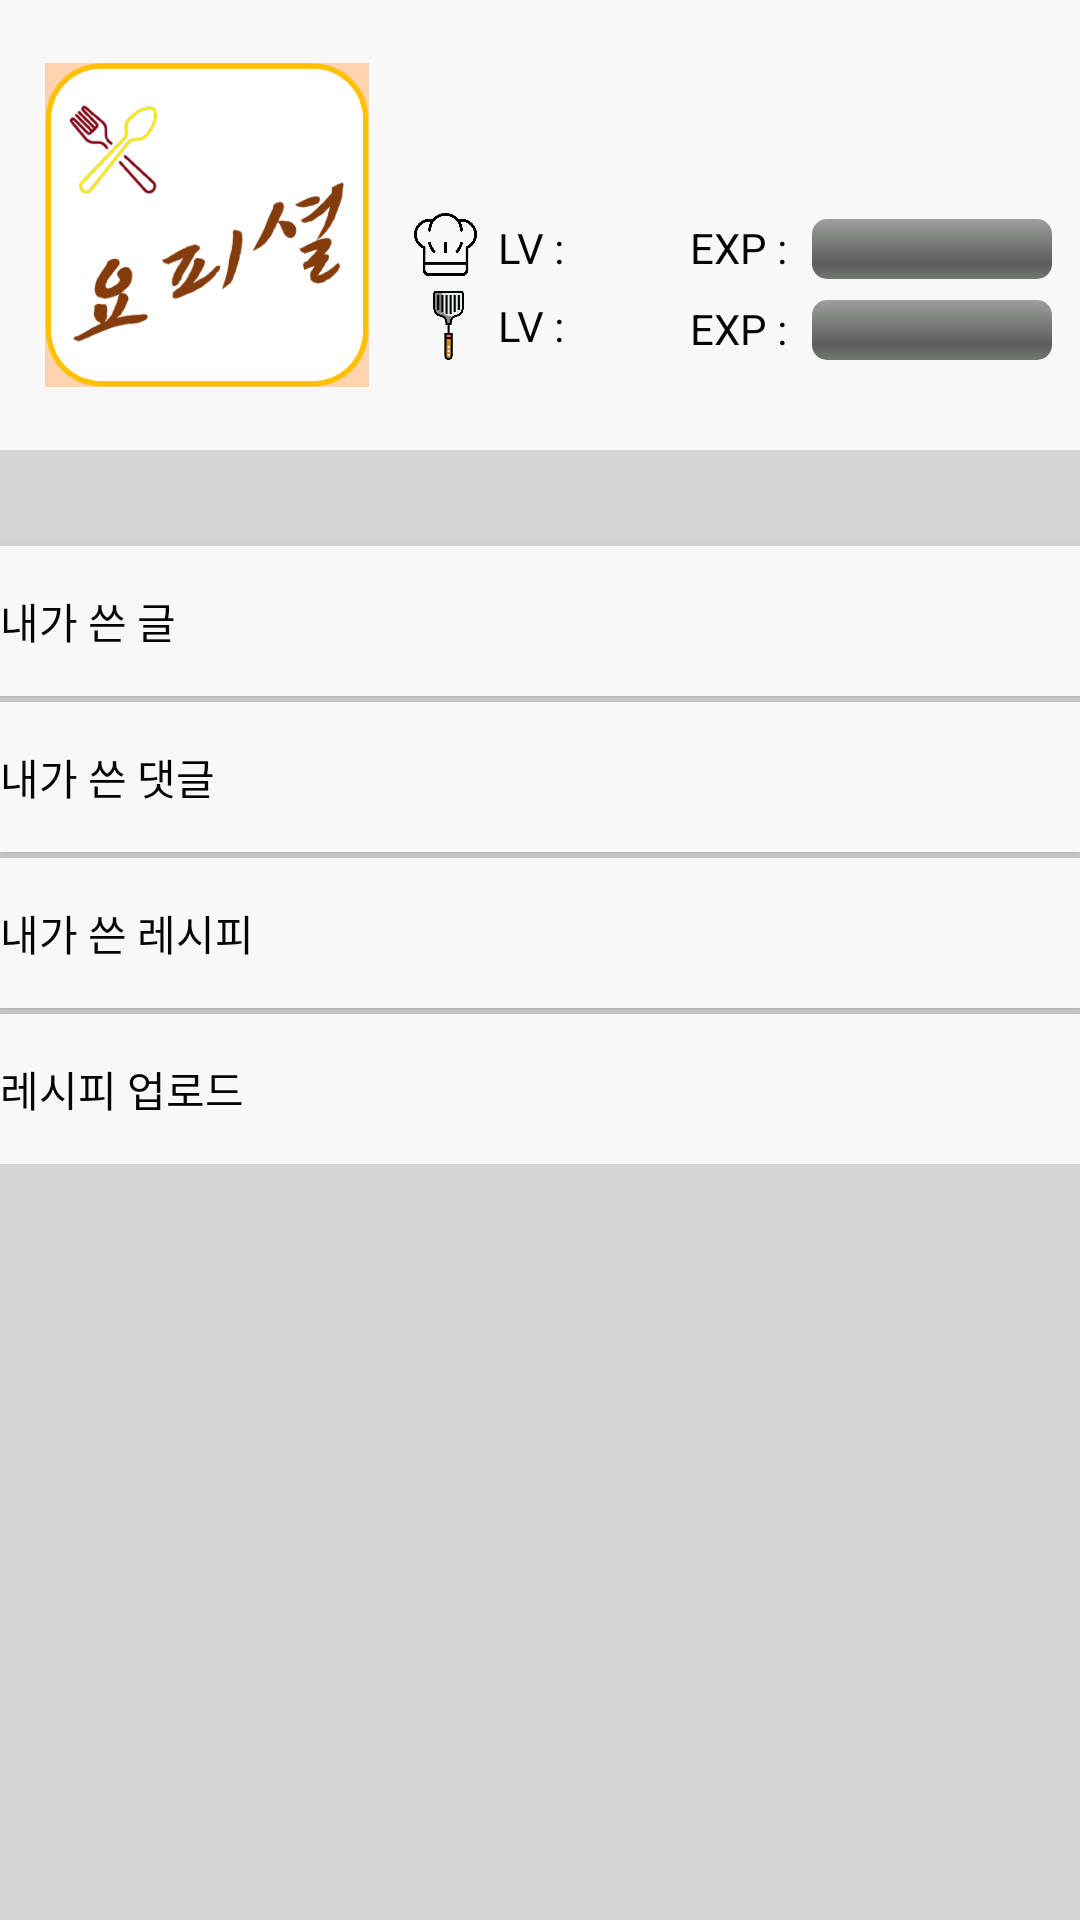

Icon click points for this 1080×1920 phone screenshot, format [x,y]:
chef: [445,244]
skimmer: [448,325]
